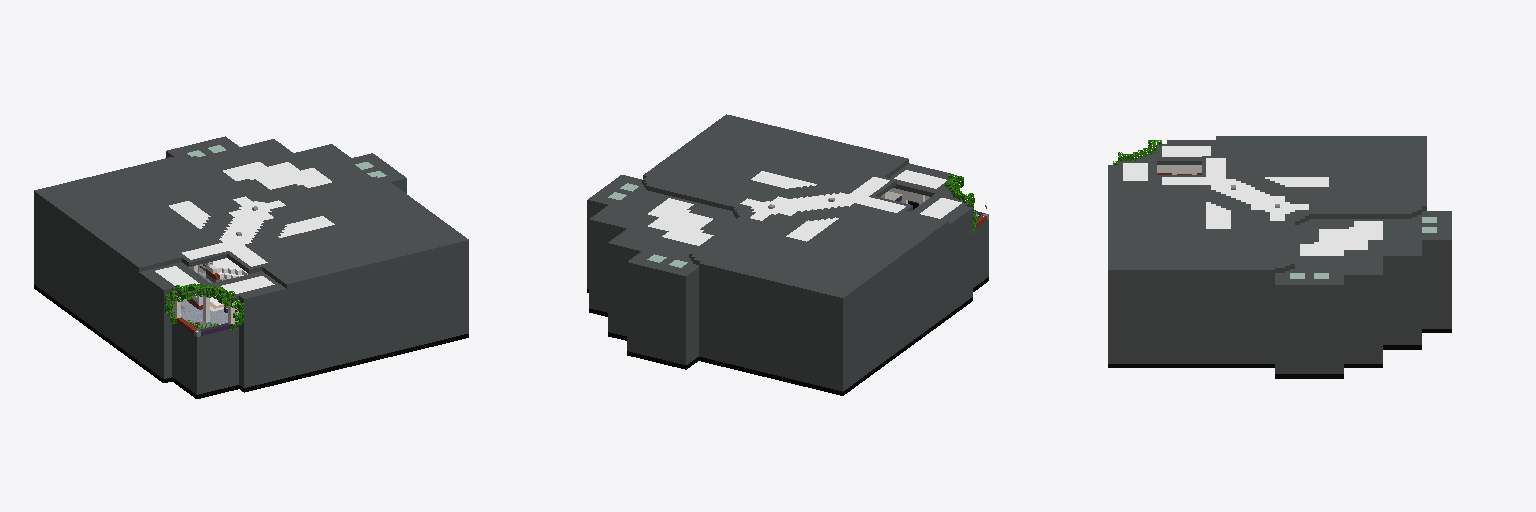
3 views of the same model, side by side, from view 1: azimuth 30°, elevation 25°; view 2: azimuth 150°, elevation 25°; view 3: azimuth 270°, elevation 25° (orthographic).
Bounding box in the file's own units: 70 × 22.5 × 70.
68 materials, 23 textured.